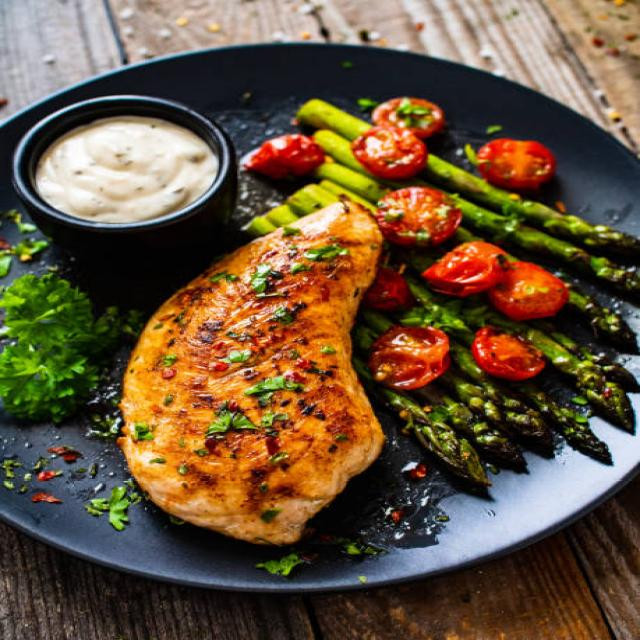Frango: (109, 194, 397, 550)
